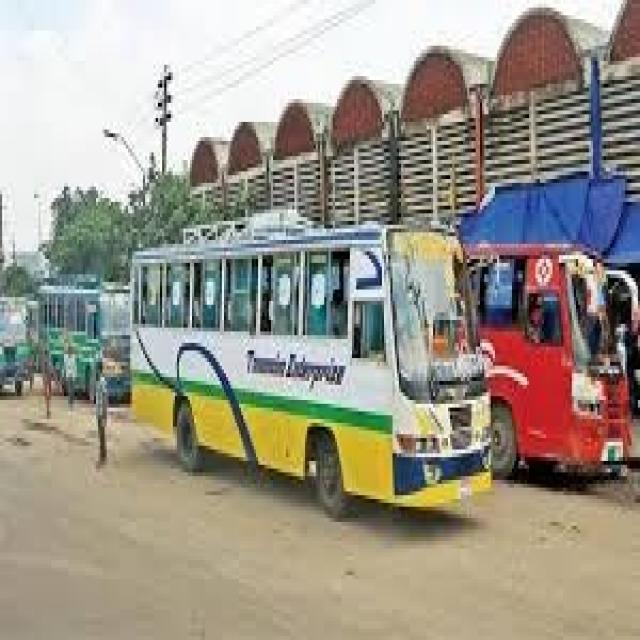bus: (127, 201, 495, 563), (483, 202, 640, 524), (36, 263, 128, 426)
